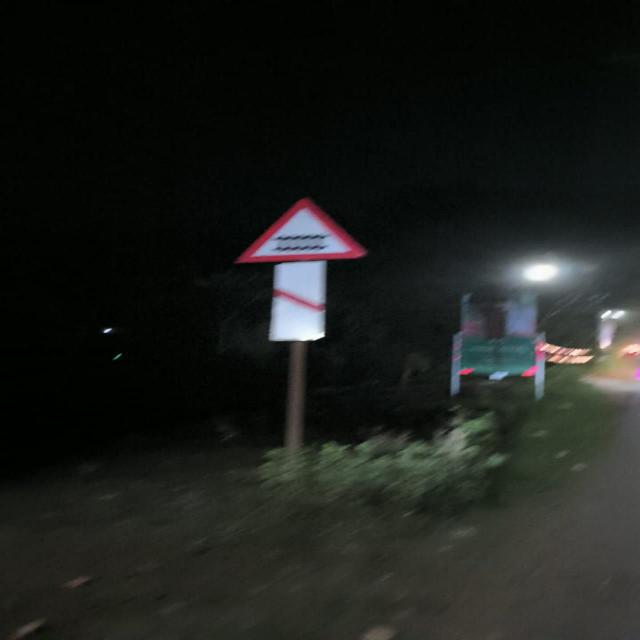level crossing with barriers ahead: (235, 201, 368, 264)
